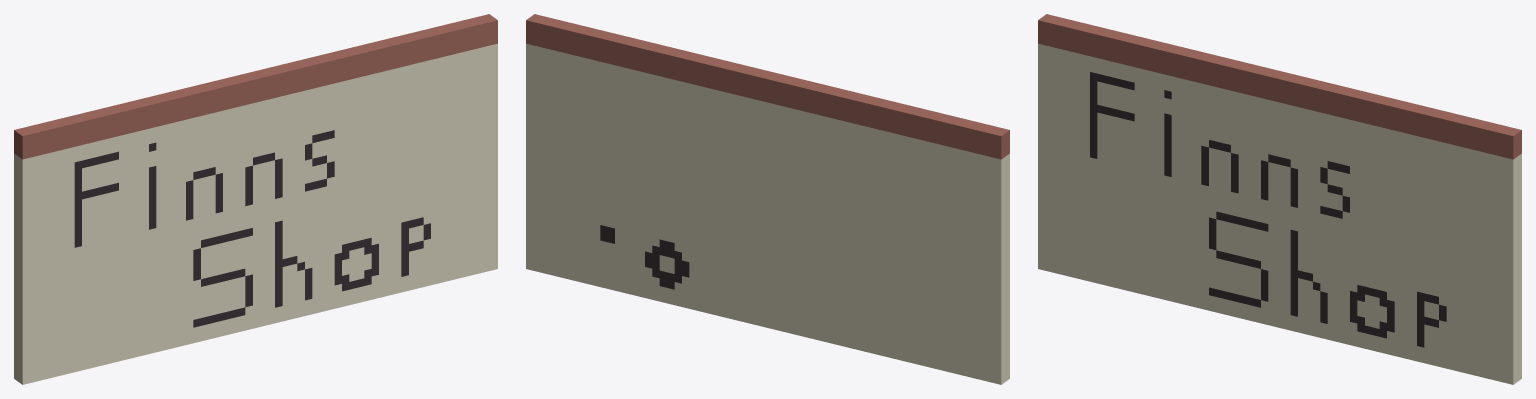
File: Shops-58 1.obj
3 views of the same model, side by side, from view 1: azimuth 30°, elevation 25°; view 2: azimuth 150°, elevation 25°; view 3: azimuth 330°, elevation 25° (orthographic).
Bounding box in the file's own units: 6.4 × 3.2 × 0.2.
1 material, 1 textured.
